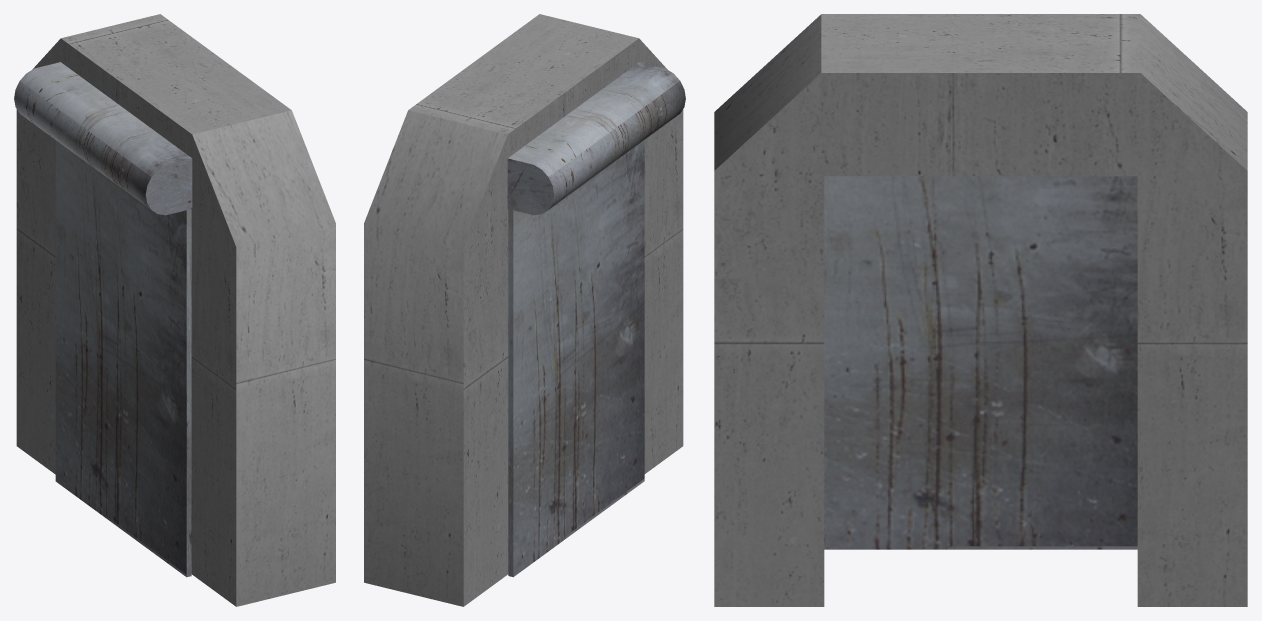
The model's file is doorclosed.FBX.
The picture shows the model from 3 angles, left to right: view 1: azimuth 30°, elevation 25°; view 2: azimuth 150°, elevation 25°; view 3: azimuth 270°, elevation 25°; orthographic projection. The views are drawn at different scales.
Parts seen in each view (by area): view 1: Box007, Box009, Cylinder001; view 2: Box007, Box009, Cylinder001; view 3: Box007, Box009.
Boxes of the visible parts, x1=… form: Box007: x1=16, y1=14, x2=335, y2=606; Box009: x1=55, y1=140, x2=191, y2=577; Cylinder001: x1=14, y1=62, x2=192, y2=215; Box007: x1=364, y1=14, x2=683, y2=606; Box009: x1=508, y1=140, x2=644, y2=577; Cylinder001: x1=507, y1=62, x2=685, y2=215; Box007: x1=714, y1=14, x2=1247, y2=606; Box009: x1=824, y1=176, x2=1137, y2=549.
Bounding box in the file's own units: 12.6 × 36.36 × 32.79.
Materials: 1 (1 with a texture image).
